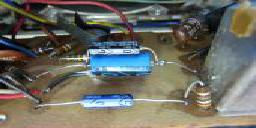Electrolytic-capacitor: (41, 92, 191, 115), (80, 53, 163, 81)
